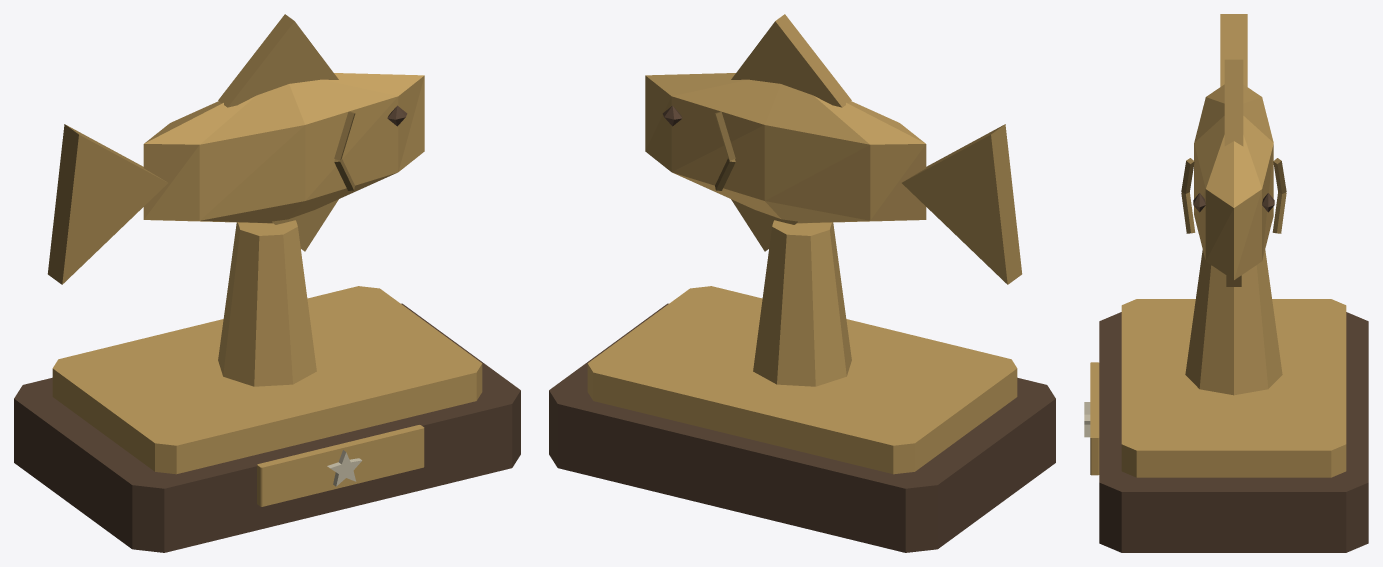
Rendered from deco_fishing_trophy.glb.
3 renders of one model, left to right at view 1: azimuth 30°, elevation 25°; view 2: azimuth 150°, elevation 25°; view 3: azimuth 270°, elevation 25°, orthographic. The views are drawn at different scales.
Parts seen in each view (by area): view 1: geometry; view 2: geometry; view 3: geometry.
Boxes of the visible parts, <box> form: geometry: <box>14,14,520,552</box>; geometry: <box>549,14,1055,552</box>; geometry: <box>1084,14,1368,552</box>.
Bounding box in the file's own units: 0.5966 × 0.6104 × 0.38.
